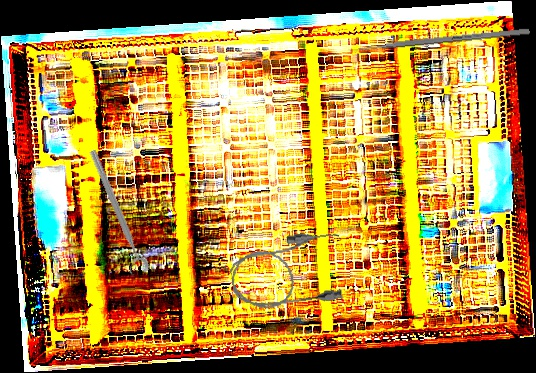Cannula: (226, 227, 349, 316)
Fixation Ring: (79, 147, 151, 279)
Pusher: (347, 27, 530, 54)
